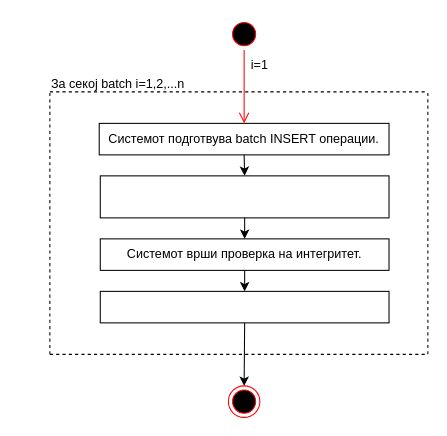
Some shapes in this 447 by 436 pixel diagram are drawn without their labels. The shapes that lost their labels are listed below. From the top down, each one's centre as x and y in pixels, then its label:
the point at 244,196: SQLite внесува записи користејќи „INSERT OR IGNORE“.
the point at 244,306: Податоците се зачувани перманентно.
